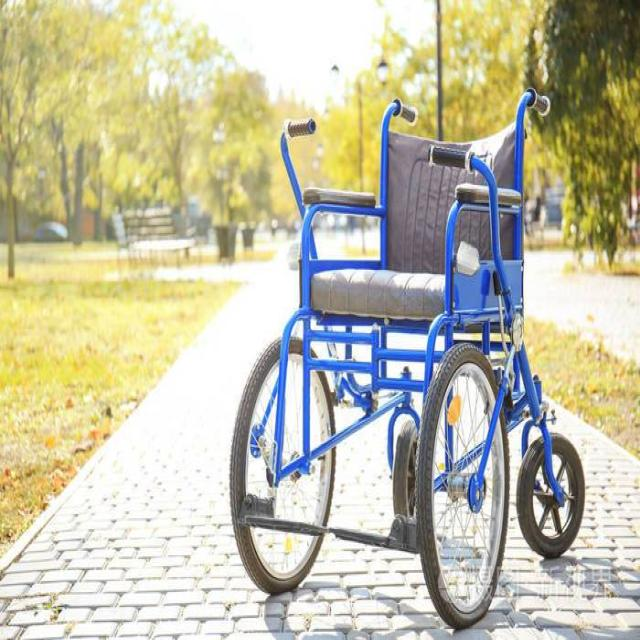wheelchairs: (215, 85, 593, 634)
